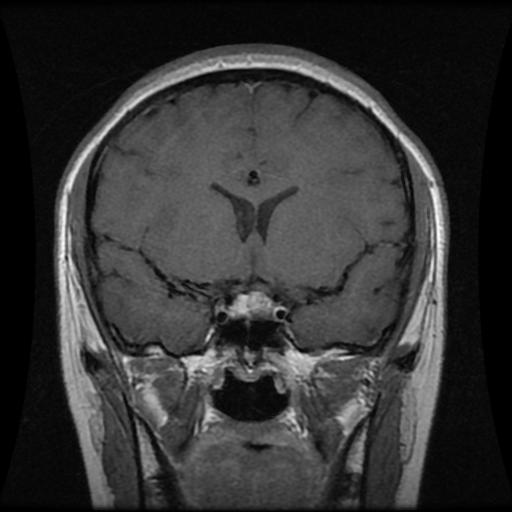Pituirity_tumour: (227, 293, 273, 320)
